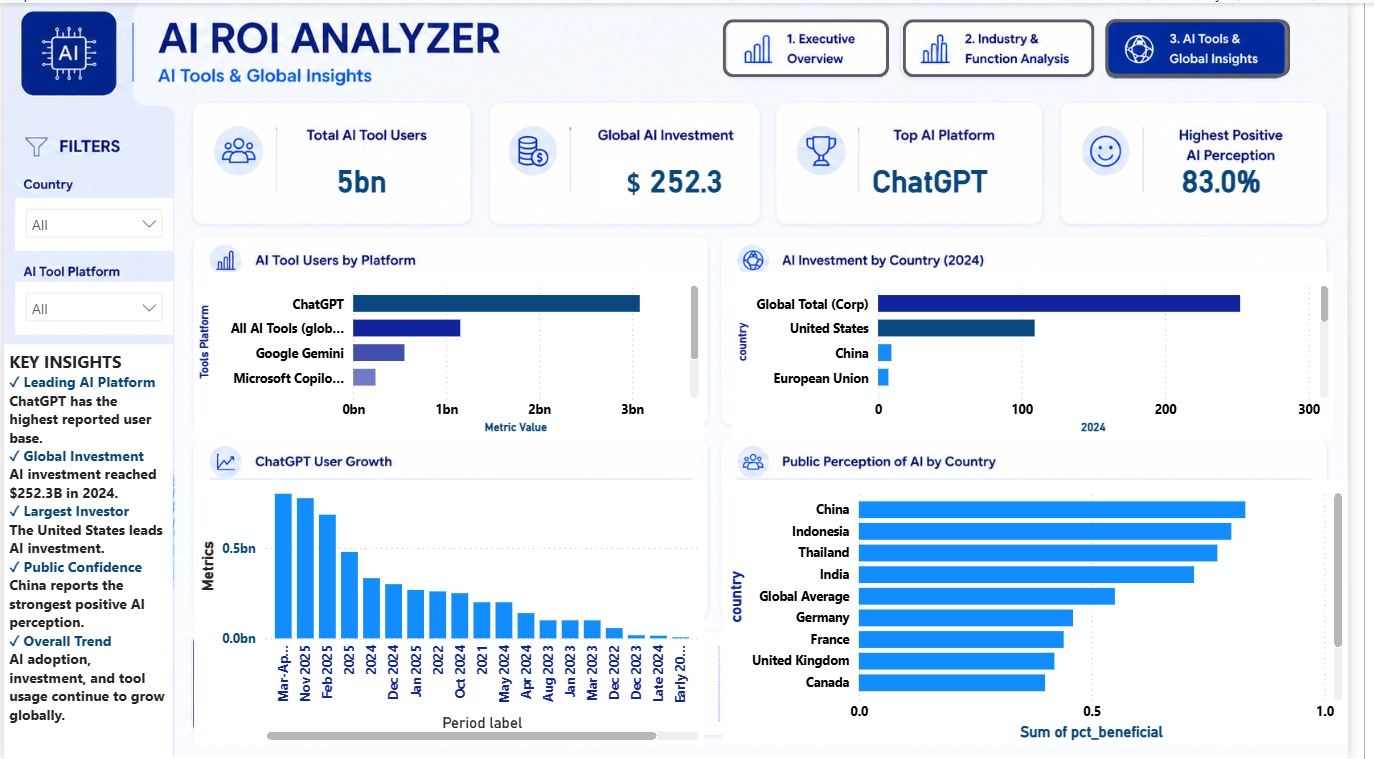

This screenshot's page, from the dashboard's own definition file:
{"tool":"powerbi","page":{"name":"AI Tools & Global Insights","canvas":[1280,720],"ordinal":2},"visuals":[{"type":"card","fields":{"Values":["Measures (2).Total AI Tool Users"]},"box":[304.8,140.5,71.4,54.8],"z":0},{"type":"card","fields":{"Values":["Measures (2).Global AI Investment"]},"box":[590.5,140.5,119,54.8],"z":1000},{"type":"card","fields":{"Values":["Measures (2).Top AI Platform"]},"box":[795.2,140.5,173.8,54.8],"z":2000},{"type":"card","fields":{"Values":["Measures (2).Highest Positive Perception"]},"box":[1072.6,140.5,173.8,54.8],"z":3000},{"type":"clusteredBarChart","fields":{"Category":["ai_tool_users.tool_platform"],"Y":["Sum(ai_tool_users.metric_value)"]},"box":[181,256,485.7,159.5],"z":4000},{"type":"clusteredBarChart","fields":{"Category":["investment_by_country.country"],"Y":["Sum(investment_by_country.y2024)"]},"box":[692.9,256,573.8,159.5],"z":5000},{"type":"clusteredColumnChart","fields":{"Category":["ai_tool_users.period_label"],"Y":["Sum(ai_tool_users.metric_value)"]},"box":[181,453.6,485.7,253.6],"z":6000},{"type":"clusteredBarChart","fields":{"Category":["sentiment_by_country.country"],"Y":["Sum(sentiment_by_country.pct_beneficial)"]},"box":[684.5,453.6,595.2,253.6],"z":7000},{"type":"slicer","fields":{"Values":["investment_by_country.country"]},"box":[10.7,185.7,150,50],"z":8000},{"type":"slicer","fields":{"Values":["ai_tool_users.tool_platform"]},"box":[10.7,265.5,150,50],"z":9000},{"type":"actionButton","box":[1048.8,15.5,176.2,54.8],"z":10000},{"type":"textbox","box":[0,325,160.7,395.2],"z":11000},{"type":"textbox","box":[567.9,150,44,45.2],"z":12000},{"type":"actionButton","box":[856.1,15.6,182.5,55.2],"z":12001},{"type":"actionButton","box":[684.4,15.6,158.5,55.2],"z":12002}]}

Visuals, with their boxes in screenshot pixels (x1, y1, x2, y2), scaled from the page's 1280x720 canvas onto the 1374x759 screenshot:
card - Measures (2).Total AI Tool Users: bbox=[327, 148, 404, 206]
card - Measures (2).Global AI Investment: bbox=[634, 148, 762, 206]
card - Measures (2).Top AI Platform: bbox=[854, 148, 1040, 206]
card - Measures (2).Highest Positive Perception: bbox=[1151, 148, 1338, 206]
clusteredBarChart - ai_tool_users.tool_platform x Sum(ai_tool_users.metric_value): bbox=[194, 270, 716, 438]
clusteredBarChart - investment_by_country.country x Sum(investment_by_country.y2024): bbox=[744, 270, 1360, 438]
clusteredColumnChart - ai_tool_users.period_label x Sum(ai_tool_users.metric_value): bbox=[194, 478, 716, 746]
clusteredBarChart - sentiment_by_country.country x Sum(sentiment_by_country.pct_beneficial): bbox=[735, 478, 1373, 746]
slicer - investment_by_country.country: bbox=[11, 196, 173, 248]
slicer - ai_tool_users.tool_platform: bbox=[11, 280, 173, 333]
actionButton: bbox=[1126, 16, 1315, 74]
textbox: bbox=[0, 343, 173, 758]
textbox: bbox=[610, 158, 657, 206]
actionButton: bbox=[919, 16, 1115, 75]
actionButton: bbox=[735, 16, 905, 75]
